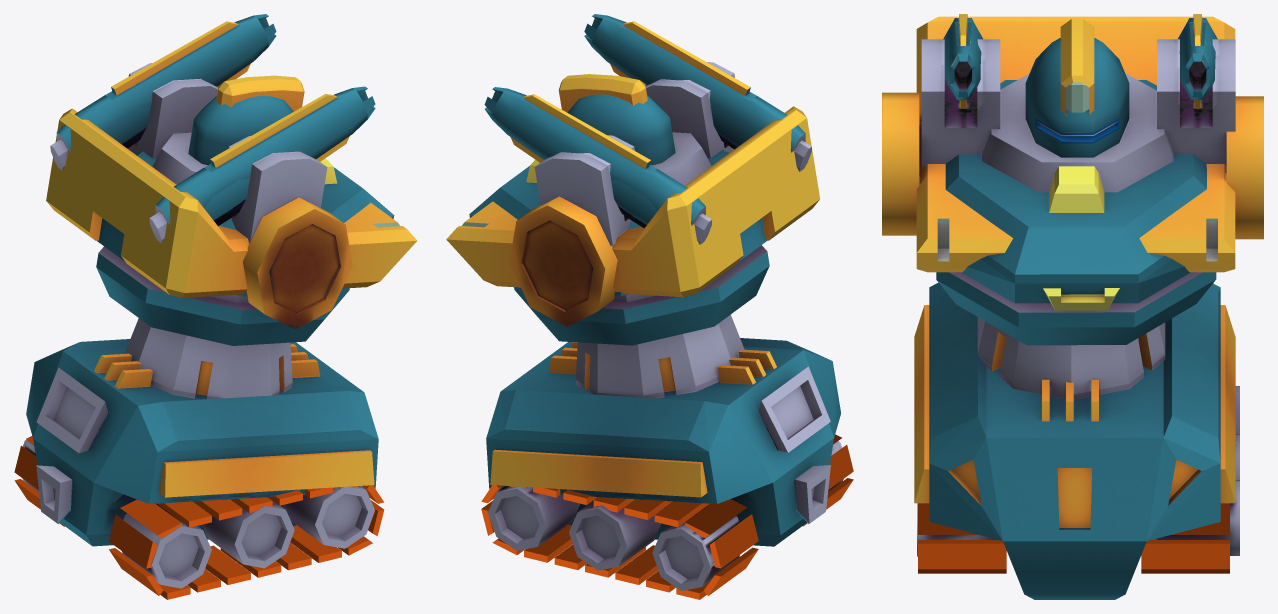
The model's file is Player_Move8.obj.
3 views of the same model, side by side, from view 1: azimuth 30°, elevation 25°; view 2: azimuth 150°, elevation 25°; view 3: azimuth 270°, elevation 25° (orthographic). The views are drawn at different scales.
Parts seen in each view (by area): view 1: Object004, Object014, Box009, Box017, Box016; view 2: Object004, Object014, Box009, Box016, Box017; view 3: Object004, Object014, Box017, Box016, Box009.
Boxes of the visible parts, left/top/right/bottom form: Object004: left=26, top=63, right=417, bottom=546; Object014: left=50, top=14, right=375, bottom=243; Box009: left=22, top=439, right=374, bottom=588; Box017: left=109, top=485, right=384, bottom=599; Box016: left=14, top=436, right=64, bottom=526; Object004: left=446, top=62, right=840, bottom=546; Object014: left=484, top=14, right=811, bottom=244; Box009: left=488, top=441, right=843, bottom=590; Box016: left=481, top=485, right=758, bottom=599; Box017: left=803, top=434, right=853, bottom=526; Object004: left=882, top=16, right=1263, bottom=599; Object014: left=943, top=14, right=1217, bottom=108; Box017: left=918, top=503, right=1006, bottom=573; Box016: left=1141, top=503, right=1229, bottom=573; Box009: left=917, top=386, right=1239, bottom=556.
Bounding box in the file's own units: 60.24 × 83.64 × 52.49.
